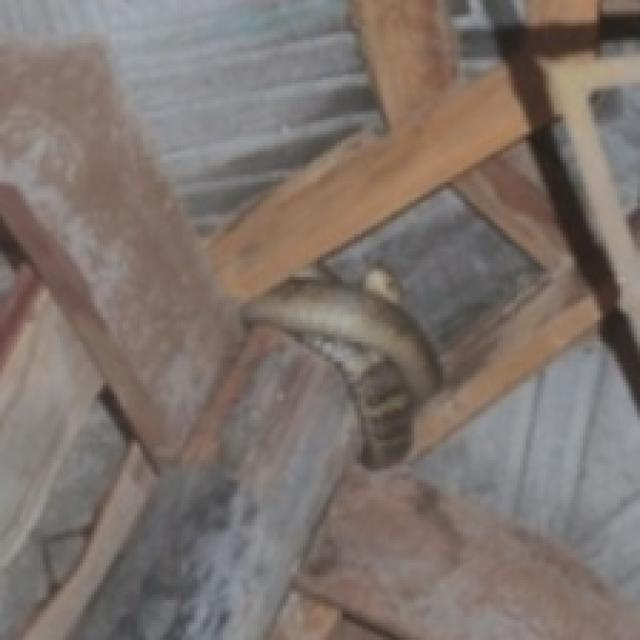king cobra: (243, 277, 440, 466)
